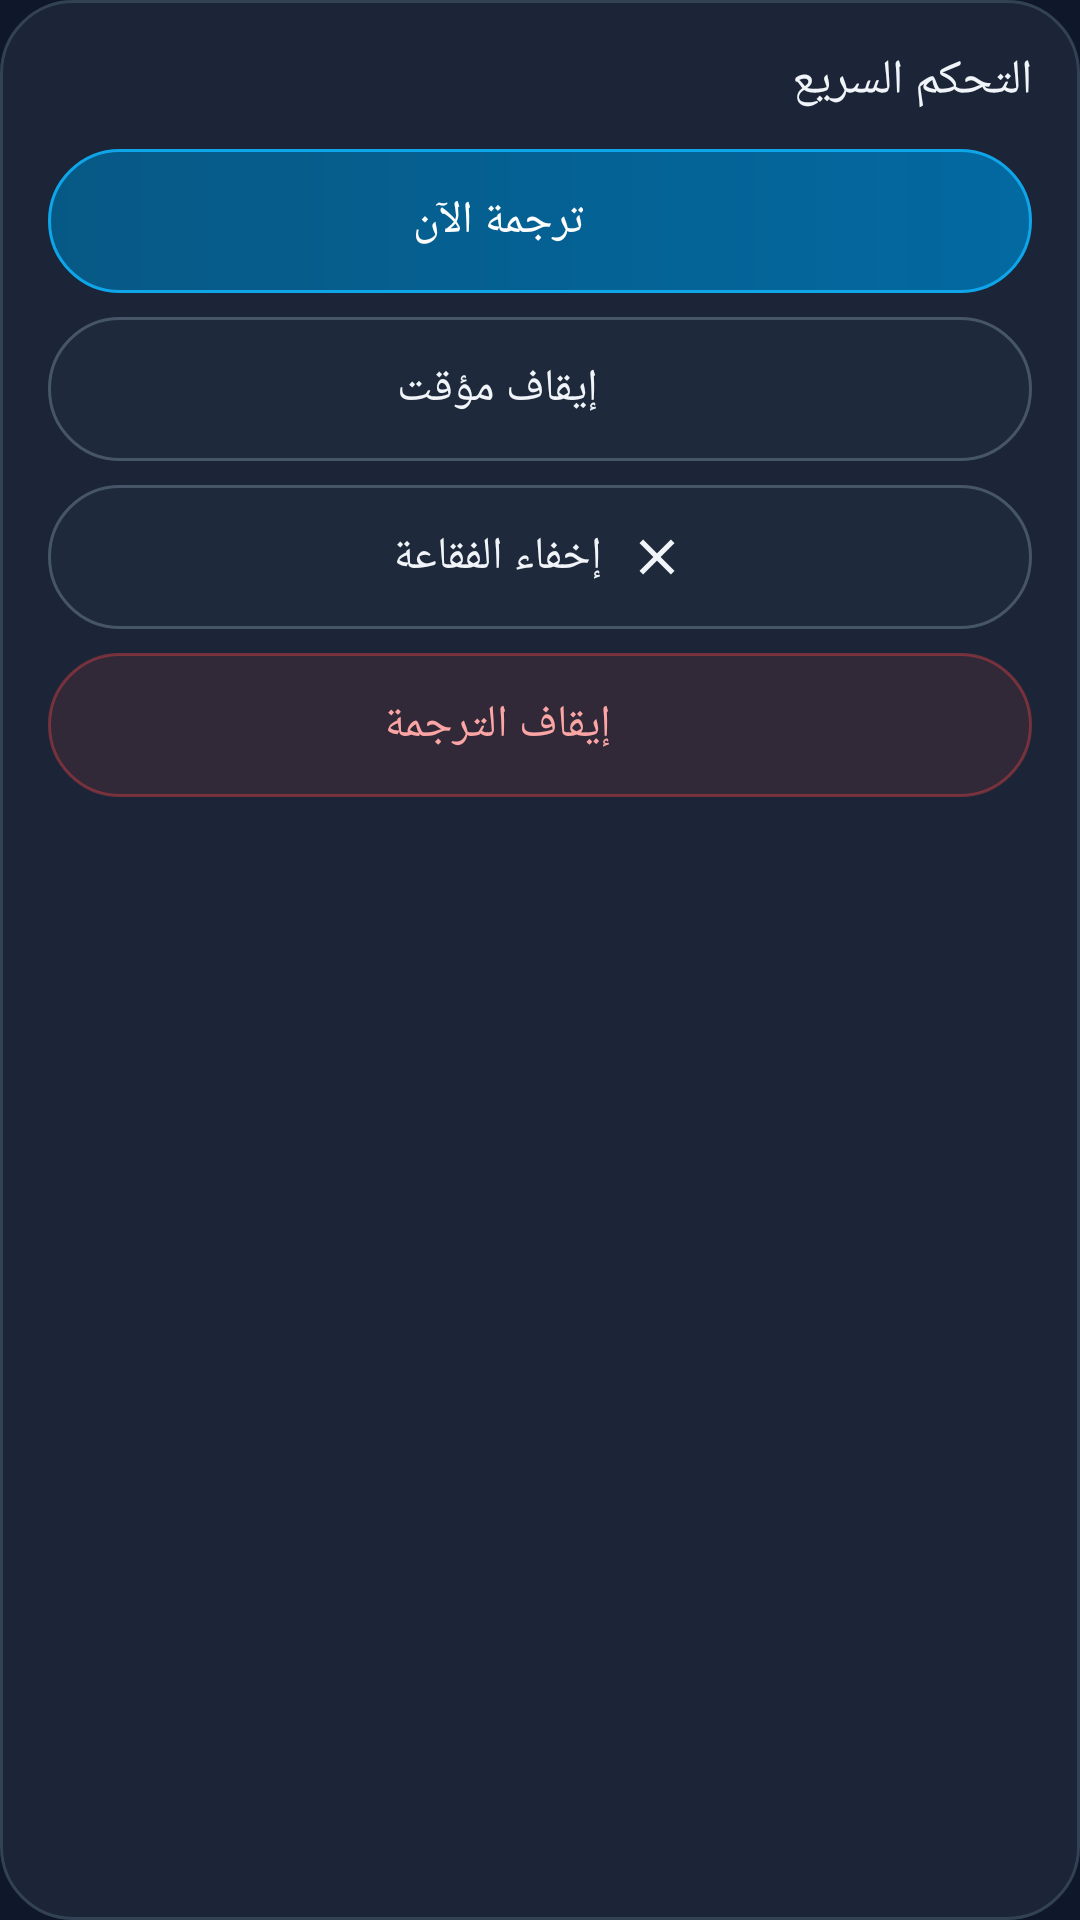

Icons on this 1080 x 1920 Android screen, each with the point to tap as (x=x, y=y):
close: (x=657, y=557)
